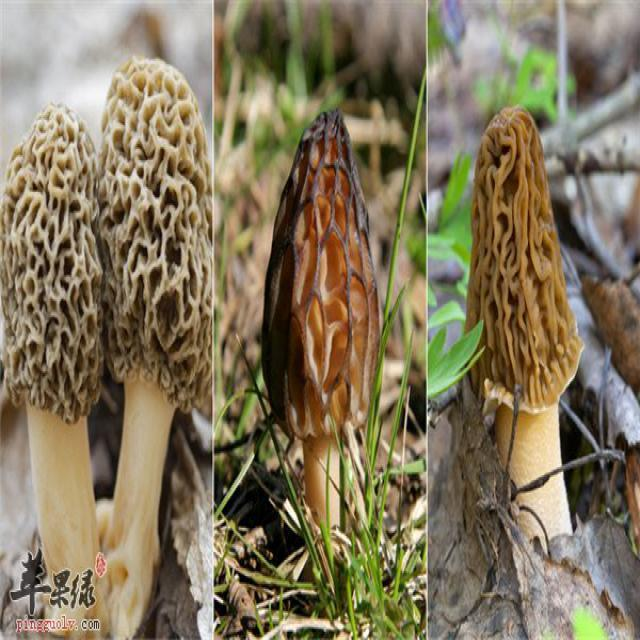Morchella esculenta: (2, 57, 210, 634), (464, 108, 583, 542), (264, 112, 381, 545)
